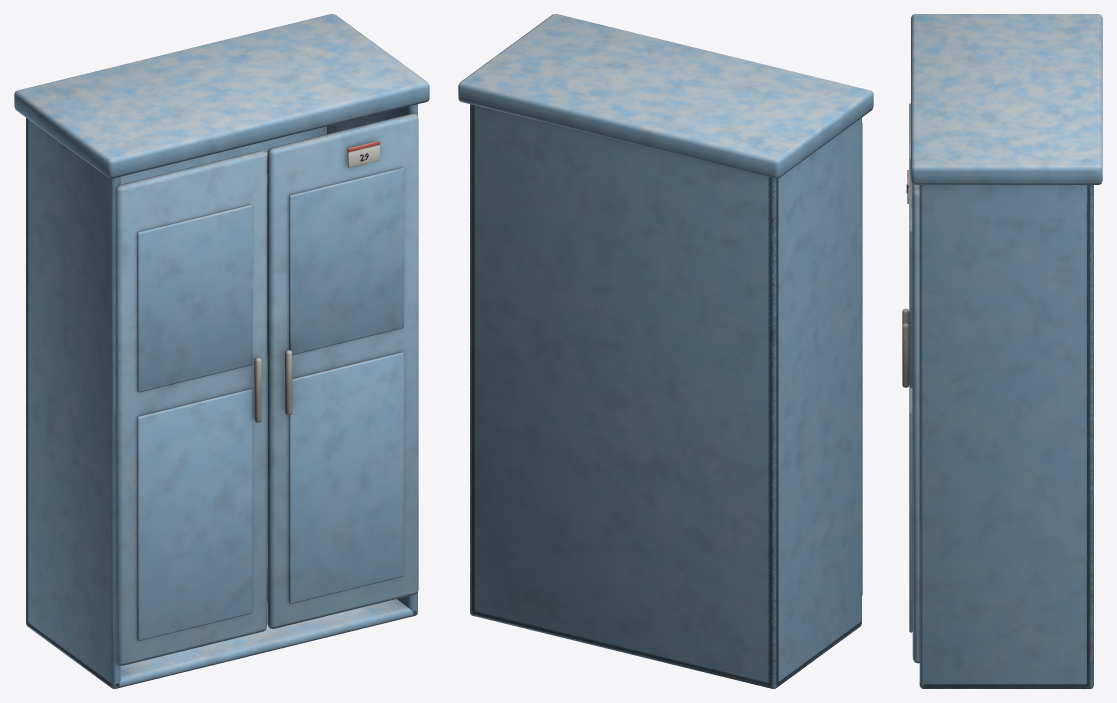
File: wardrobe.fbx
The picture shows the model from 3 angles, left to right: view 1: azimuth 30°, elevation 25°; view 2: azimuth 150°, elevation 25°; view 3: azimuth 270°, elevation 25°; orthographic projection.
Parts seen in each view (by area): view 1: Body, DoorL, DoorR; view 2: Body; view 3: Body, DoorR.
Part boxes in pixels (box(x1,y1,x2,y2)): Body: box(14, 14, 429, 688); DoorL: box(116, 150, 266, 665); DoorR: box(267, 113, 418, 628); Body: box(458, 14, 873, 688); Body: box(906, 14, 1102, 688); DoorR: box(902, 176, 919, 663).
Bounding box in the file's own units: 4.2 × 6.68 × 2.3.
Materials: 1 (1 with a texture image).
